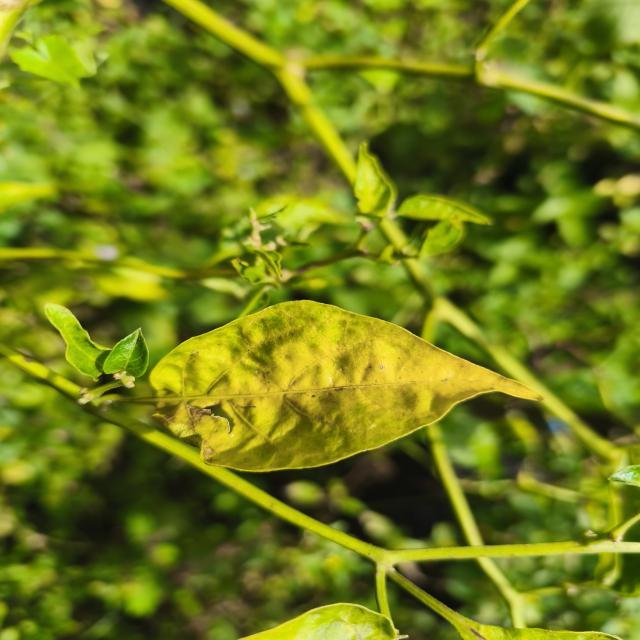Virus Kuning: (147, 298, 545, 473)
